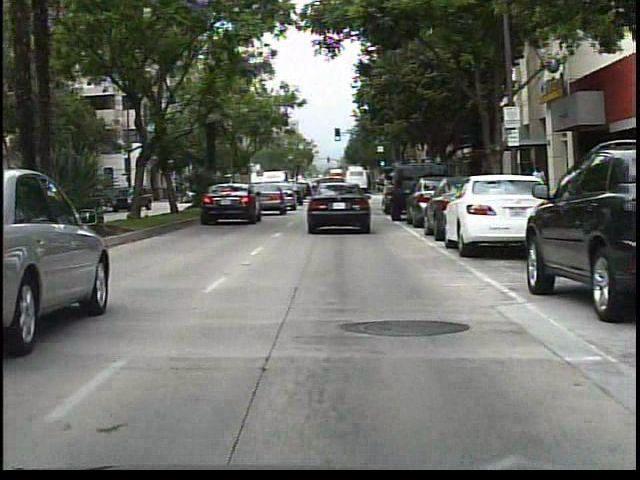person: (527, 157, 551, 222)
